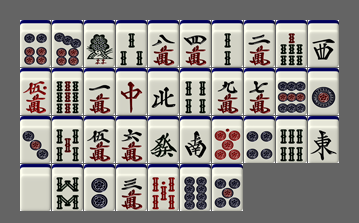0m: (20, 68, 51, 115)
0p: (212, 116, 243, 163)
0s: (148, 164, 179, 211)
1m: (84, 68, 115, 115)
1p: (308, 68, 339, 115)
1s: (84, 20, 115, 67)
1z: (308, 116, 339, 163)
2m: (244, 20, 275, 67)
2p: (84, 164, 115, 211)
2s: (212, 20, 243, 67)
2z: (180, 116, 211, 163)
3m: (116, 164, 147, 211)
3p: (20, 116, 51, 163)
3s: (116, 20, 147, 67)
3z: (308, 20, 339, 67)
4m: (180, 20, 211, 67)
4p: (244, 116, 275, 163)
4s: (180, 68, 211, 115)
4z: (148, 68, 179, 115)
5m: (84, 116, 115, 163)
5p: (212, 164, 243, 211)
5s: (52, 116, 83, 163)
5z: (20, 164, 51, 211)
6m: (116, 116, 147, 163)
6p: (20, 20, 51, 67)
6s: (276, 116, 307, 163)
6z: (148, 116, 179, 163)
7m: (244, 68, 275, 115)
7p: (52, 20, 83, 67)
7s: (276, 20, 307, 67)
7z: (116, 68, 147, 115)
8m: (148, 20, 179, 67)
8p: (180, 164, 211, 211)
8s: (52, 164, 83, 211)
9m: (212, 68, 243, 115)
9p: (276, 68, 307, 115)
9s: (52, 68, 83, 115)
